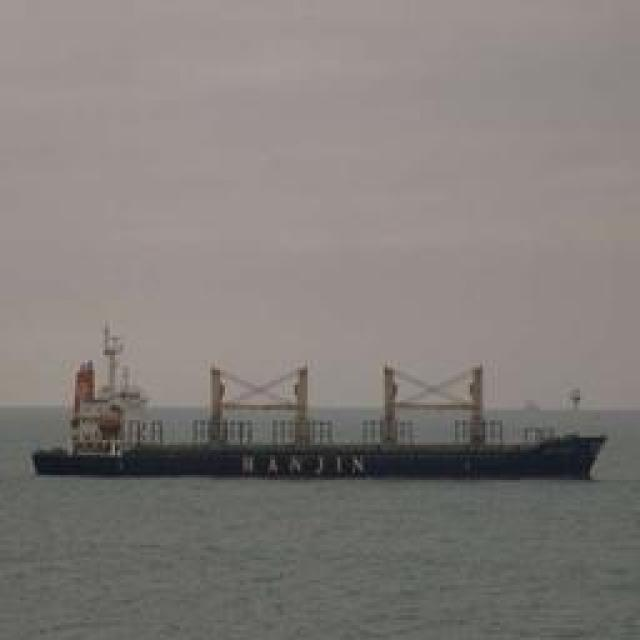Ship: (42, 353, 612, 480)
